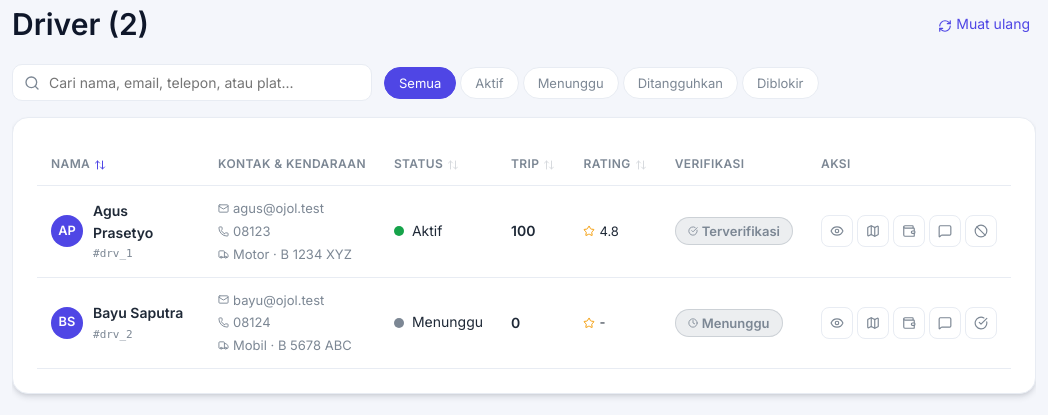
Test: Drivers › filters drivers by search query
expect the text "Agus Prasetyo" is shown: met, box [93, 202, 153, 241]
Step 1. Type "Bayu" into the field with placeholder "Cari nama, email, telepon, atau plat..." → [192, 82], box [12, 64, 372, 101]
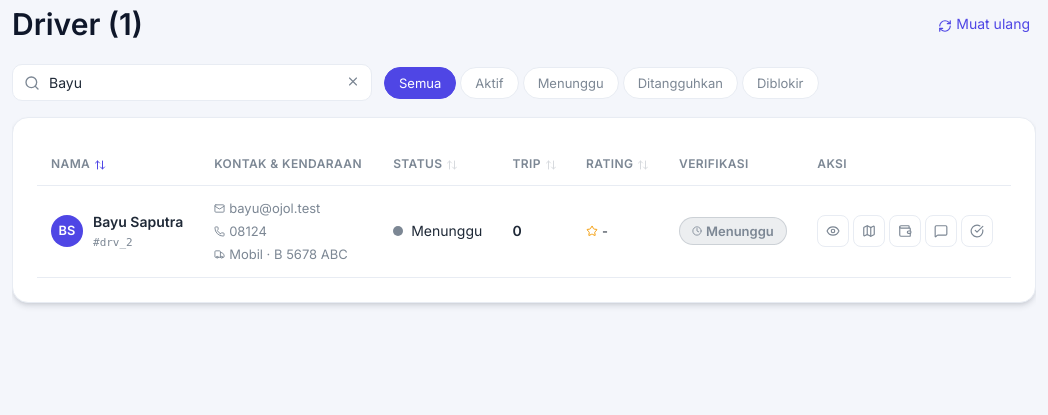
expect the text "Bayu Saputra" is shown: met, box [93, 211, 183, 233]
expect the text "Agus Prasetyo" is gone: met
expect the heading "Driver (1)" is shown: met, box [12, 0, 143, 48]
